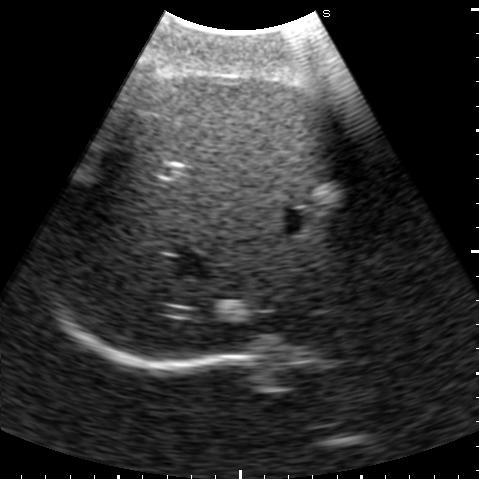S5: (122, 75, 350, 188)
S7: (48, 148, 181, 312)
S8: (111, 158, 379, 355)
Tumor: (309, 182, 347, 213), (211, 298, 248, 323)
